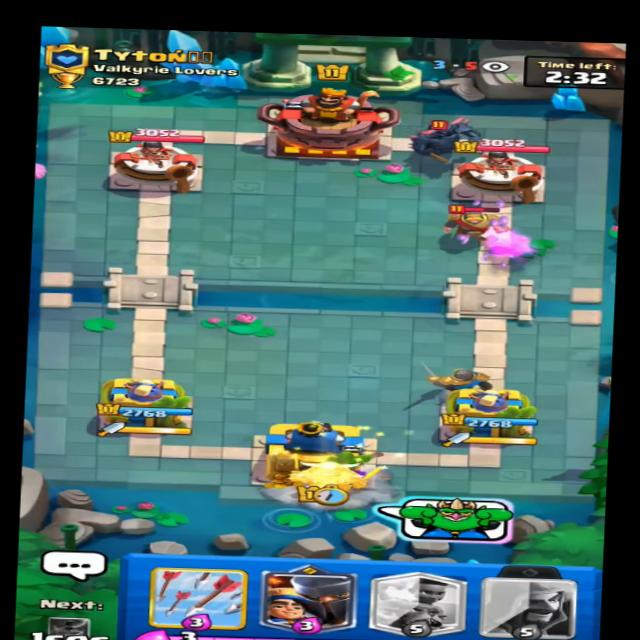knight: (428, 199, 511, 241)
pekka: (398, 111, 488, 162)
